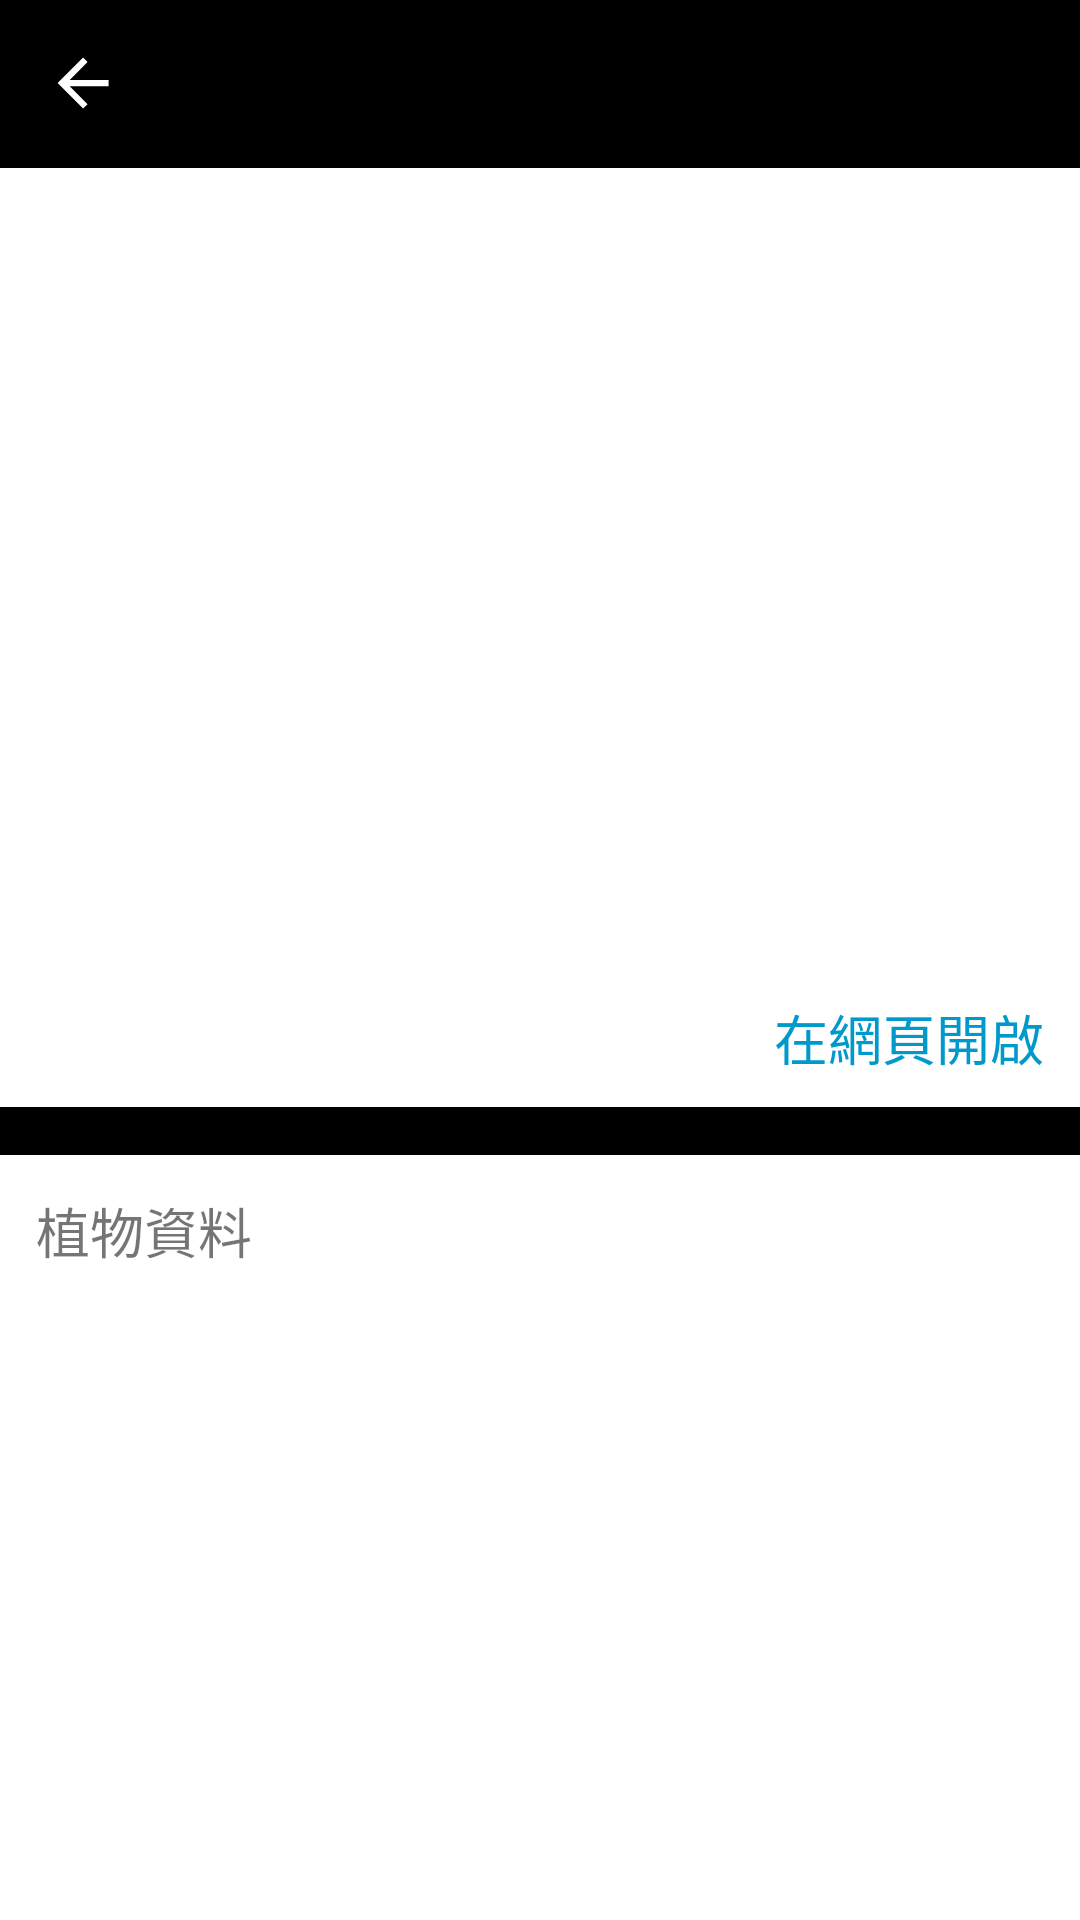

Icon click points for this 1080 × 1920 phone screenshot, format (x=x, y=y):
arrow back: (x=83, y=83)
